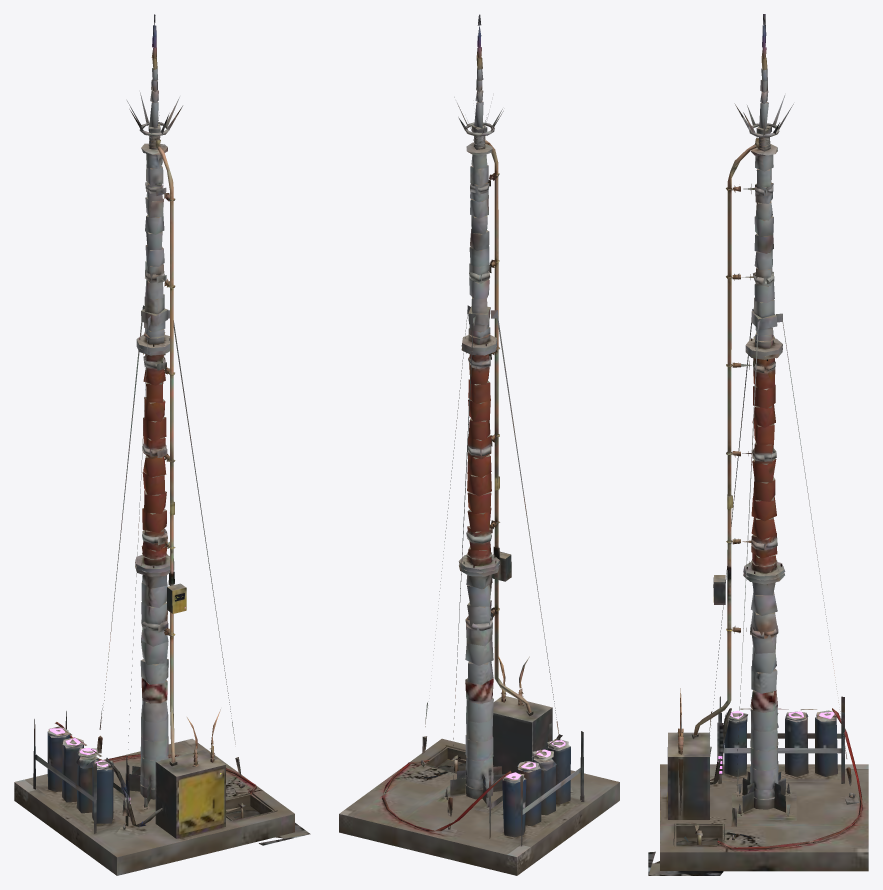
Rendered from para_raios.glb.
The picture shows the model from 3 angles, left to right: view 1: azimuth 30°, elevation 25°; view 2: azimuth 150°, elevation 25°; view 3: azimuth 270°, elevation 25°; orthographic projection.
Parts seen in each view (by area): view 1: para_raios_corpo; view 2: para_raios_corpo; view 3: para_raios_corpo.
Part boxes in pixels (box(x1,y1,x2,y2)): para_raios_corpo: box(14, 14, 310, 875); para_raios_corpo: box(339, 14, 619, 875); para_raios_corpo: box(648, 14, 868, 875).
Size of the model in its own units: 0.9505 by 3.89 by 0.95.
4 materials, 1 textured.
